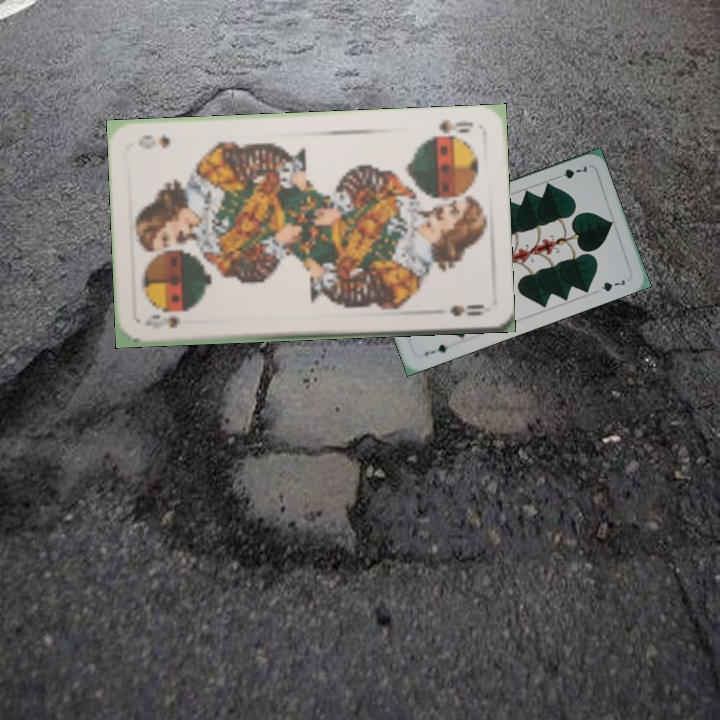G7: (551, 161, 590, 182), (420, 340, 455, 359)
SO: (427, 115, 476, 141), (141, 311, 182, 331)
